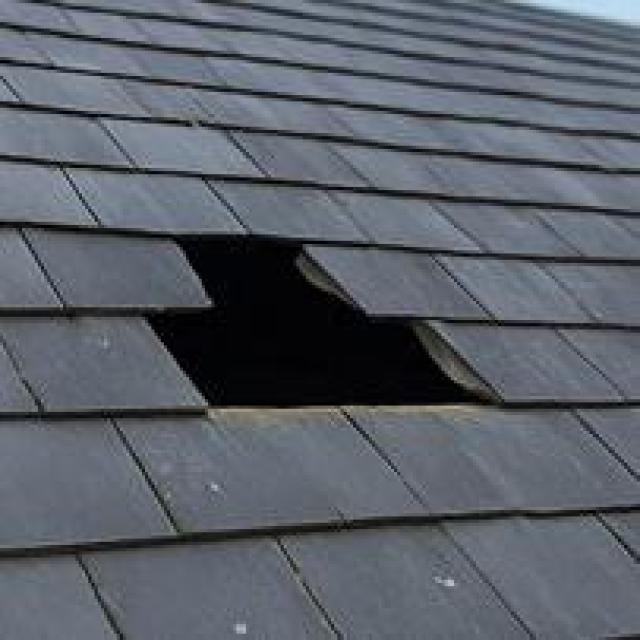trou: (130, 224, 512, 419)
